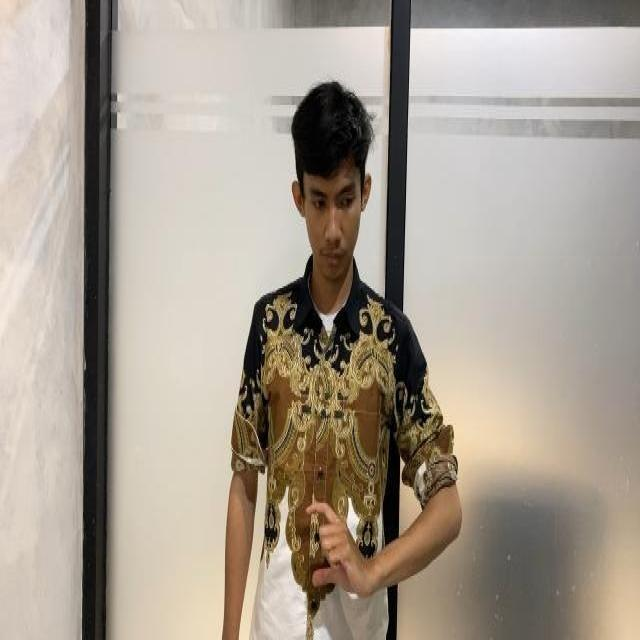C: (294, 496, 361, 592)
